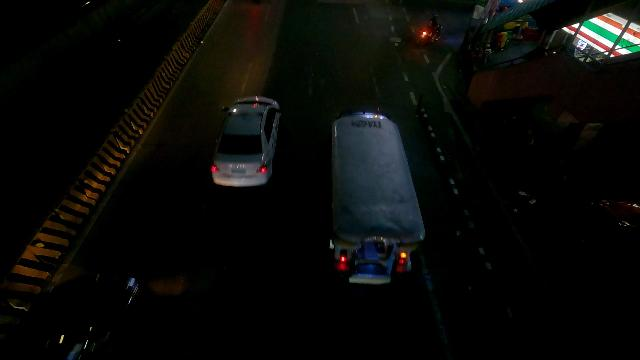car: (209, 98, 280, 189)
jeepney: (326, 110, 430, 290)
motorcycle: (419, 14, 445, 47)
